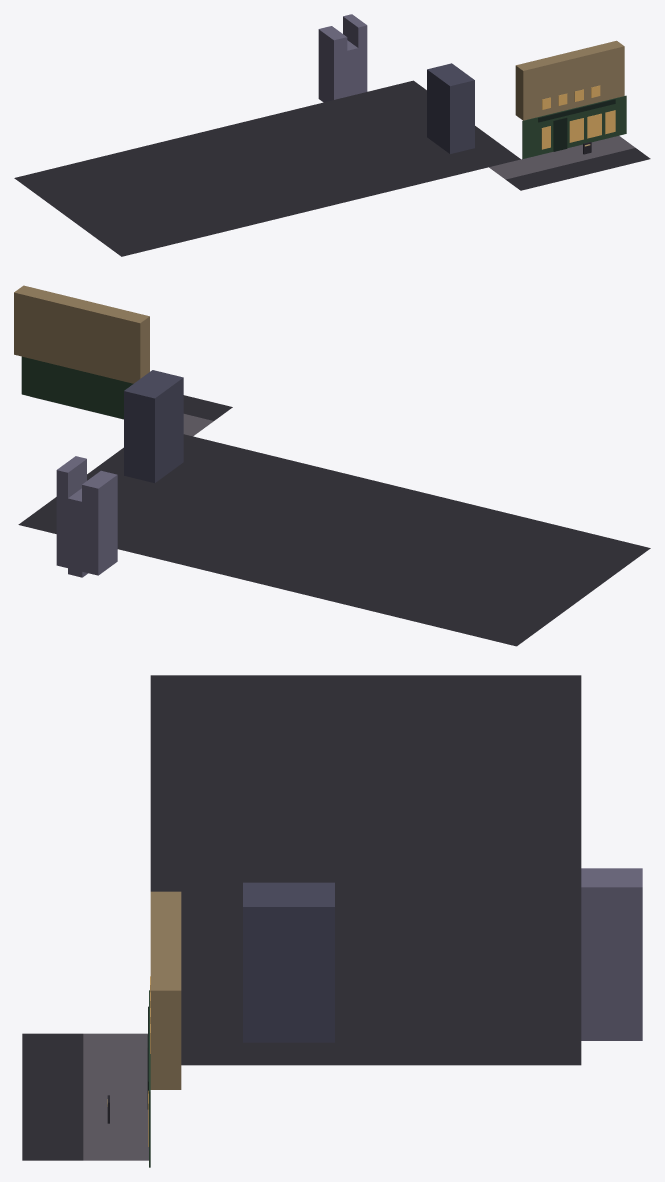
Rendered from opening.glb.
3 views of the same model, one above another, from view 1: azimuth 30°, elevation 25°; view 2: azimuth 150°, elevation 25°; view 3: azimuth 270°, elevation 25° (orthographic). The views are drawn at different scales.
Visible parts, largest first — view 1: side-street, facade, side-building, shopfront, floor, city_0, apron, city_2, city_1, hit_door, fascia; view 2: side-street, facade, side-building, shopfront, city_0, city_2, city_1, apron; view 3: side-street, side-building, city_2, floor, apron, facade.
Part boxes in pixels (<box>): side-street: <box>14,80,520,256</box>; facade: <box>515,40,624,120</box>; side-building: <box>427,63,474,153</box>; shopfront: <box>522,95,626,158</box>; floor: <box>489,136,635,179</box>; city_0: <box>318,26,347,102</box>; apron: <box>506,148,650,190</box>; city_2: <box>343,14,367,93</box>; city_1: <box>346,40,358,96</box>; hit_door: <box>553,117,567,151</box>; fascia: <box>538,99,615,122</box>; side-street: <box>18,434,650,646</box>; facade: <box>14,285,149,383</box>; side-building: <box>124,370,183,483</box>; shopfront: <box>21,356,133,419</box>; city_0: <box>82,470,117,575</box>; city_2: <box>56,456,86,567</box>; city_1: <box>68,488,87,577</box>; apron: <box>183,395,232,420</box>; side-street: <box>150,675,581,1065</box>; side-building: <box>243,882,334,1042</box>; city_2: <box>581,878,642,1040</box>; floor: <box>83,1033,148,1160</box>; apron: <box>22,1033,83,1160</box>; facade: <box>150,891,181,1089</box>.
Size of the model in its own units: 37.88 by 7.37 by 20.17.
